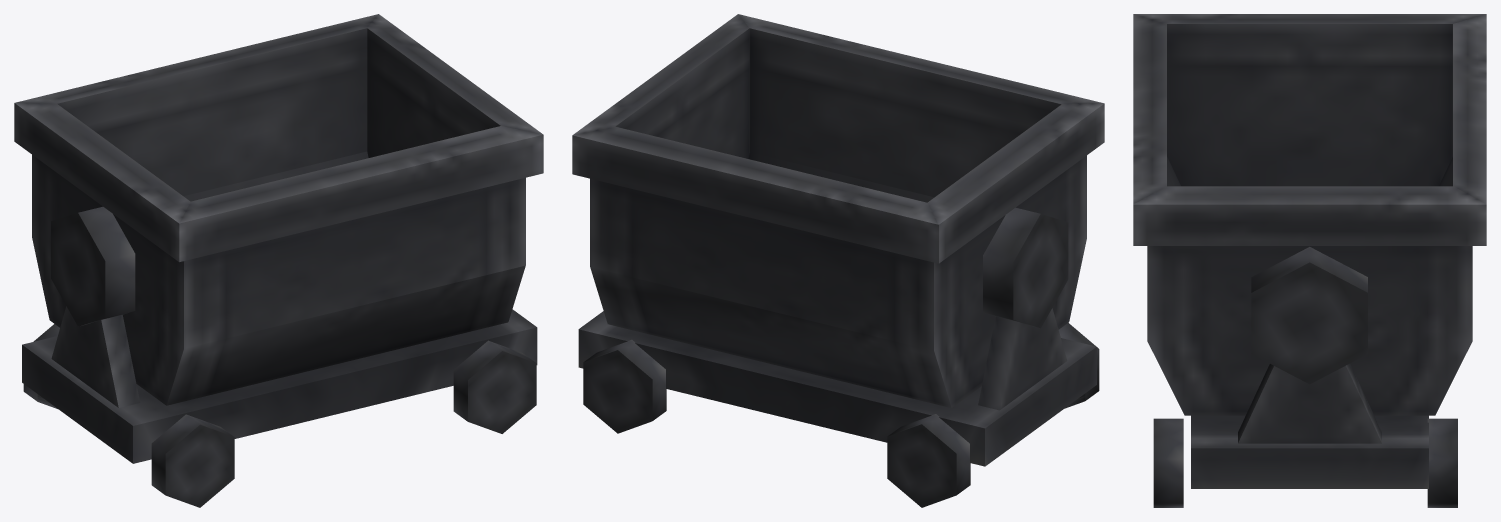
The model's file is mine_cart_2.FBX.
3 renders of one model, left to right at view 1: azimuth 30°, elevation 25°; view 2: azimuth 150°, elevation 25°; view 3: azimuth 270°, elevation 25°, orthographic. The views are drawn at different scales.
Visible parts, largest first — view 1: polySurface1154; view 2: polySurface1154; view 3: polySurface1154.
Part boxes in pixels (box(x1,y1,x2,y2)): polySurface1154: box(14, 14, 543, 507); polySurface1154: box(572, 14, 1104, 507); polySurface1154: box(1133, 14, 1486, 507).
Bounding box in the file's own units: 9.03 × 6.38 × 6.46.
